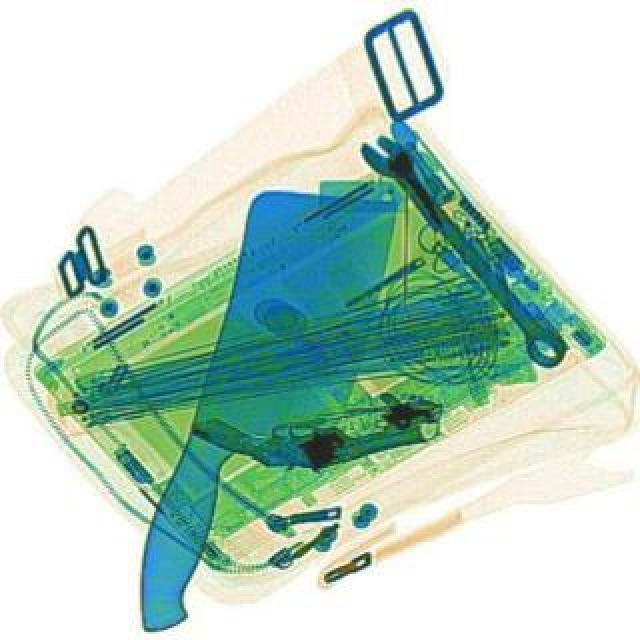gun: (192, 372, 424, 492)
knife: (144, 172, 394, 636)
scissors: (352, 124, 570, 372)
